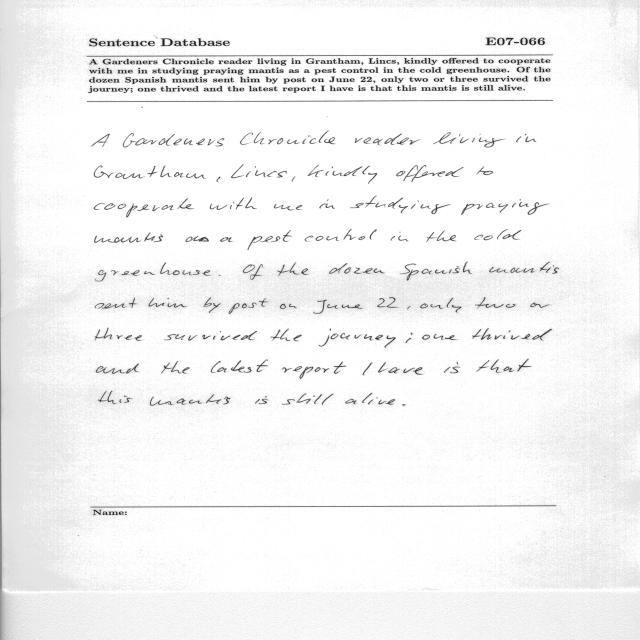word: (96, 263, 211, 281), (94, 199, 193, 218), (350, 196, 451, 214), (94, 165, 206, 179), (123, 133, 224, 148), (319, 329, 395, 348), (461, 199, 548, 215), (400, 262, 472, 281), (240, 131, 335, 145), (308, 165, 377, 184), (282, 361, 347, 379), (397, 165, 464, 182), (433, 133, 505, 148), (472, 328, 552, 341), (150, 394, 231, 406), (305, 229, 377, 242), (164, 331, 257, 341), (248, 230, 292, 250), (489, 262, 559, 274), (476, 359, 531, 373), (94, 232, 163, 243), (211, 360, 268, 373), (231, 165, 287, 178), (355, 134, 420, 145), (313, 300, 363, 314), (229, 298, 268, 314), (282, 393, 334, 405), (329, 263, 385, 274), (210, 197, 257, 210), (95, 328, 142, 341), (420, 298, 462, 312), (378, 362, 423, 375), (345, 393, 395, 404), (475, 229, 522, 240), (475, 297, 516, 309), (96, 363, 139, 374), (95, 298, 137, 309), (99, 391, 133, 404), (277, 262, 308, 276), (149, 298, 187, 308), (271, 329, 302, 341), (162, 361, 190, 374), (426, 231, 456, 242), (243, 264, 263, 280), (203, 297, 221, 313), (91, 134, 110, 147), (377, 297, 398, 308), (422, 334, 457, 340), (444, 362, 460, 373), (274, 205, 302, 211), (391, 232, 409, 241), (516, 134, 536, 142), (319, 199, 335, 209), (185, 236, 209, 242), (477, 167, 493, 175), (363, 363, 372, 376), (255, 396, 268, 404), (530, 303, 550, 308), (280, 304, 297, 309), (406, 333, 413, 343), (220, 237, 232, 242), (217, 176, 221, 182), (292, 177, 295, 182), (408, 306, 411, 310), (402, 404, 406, 406), (219, 275, 221, 275)
